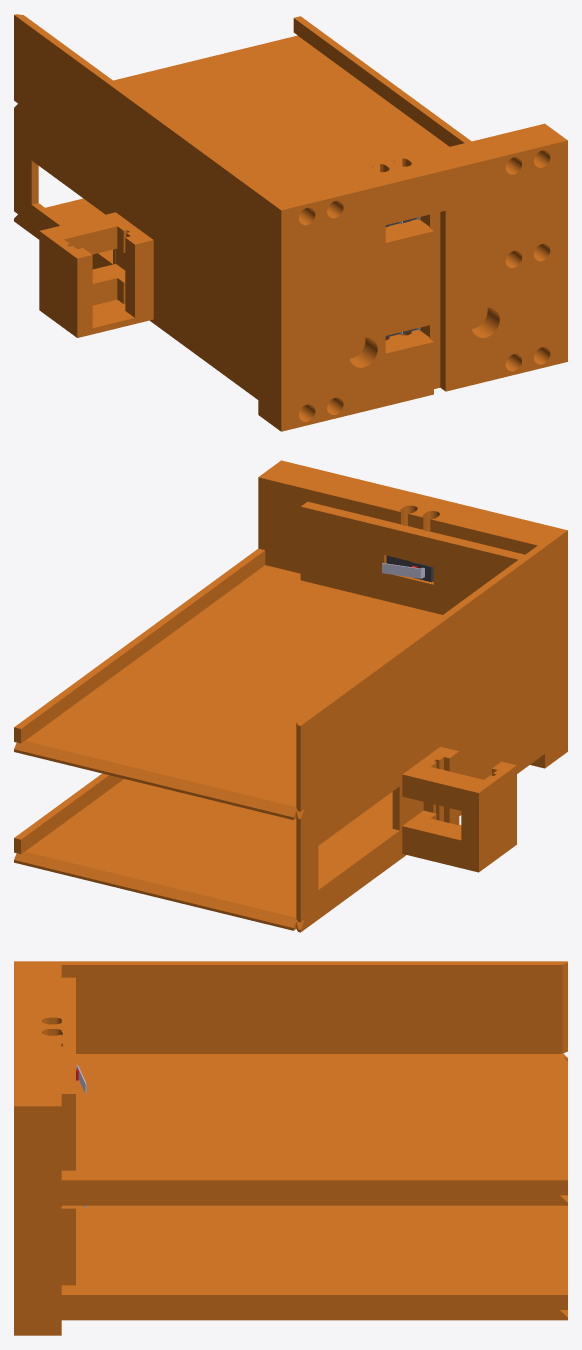
File: tray.glb
3 renders of one model, top to bottom at view 1: azimuth 30°, elevation 25°; view 2: azimuth 150°, elevation 25°; view 3: azimuth 270°, elevation 25°, orthographic. The views are drawn at different scales.
Visible parts, largest first — view 1: tray; view 2: tray; view 3: tray.
Part boxes in pixels (x1,y1,x2,y2): tray: (14,14,567,431); tray: (14,460,567,932); tray: (14,961,567,1335).
Size of the model in its own units: 0.1545 by 0.09 by 0.197.
